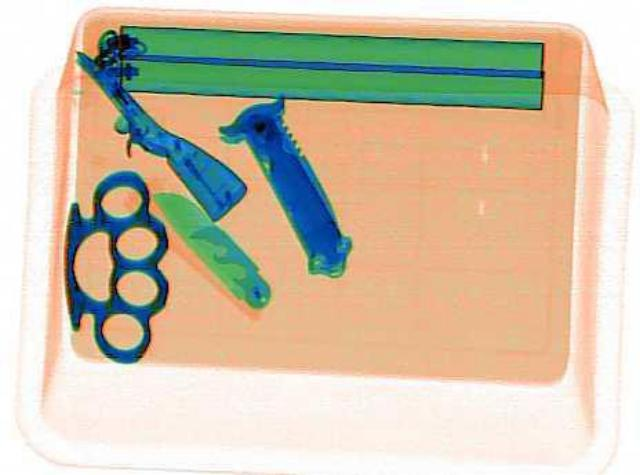Knife: (228, 95, 362, 278), (55, 167, 172, 360), (144, 184, 282, 309)
